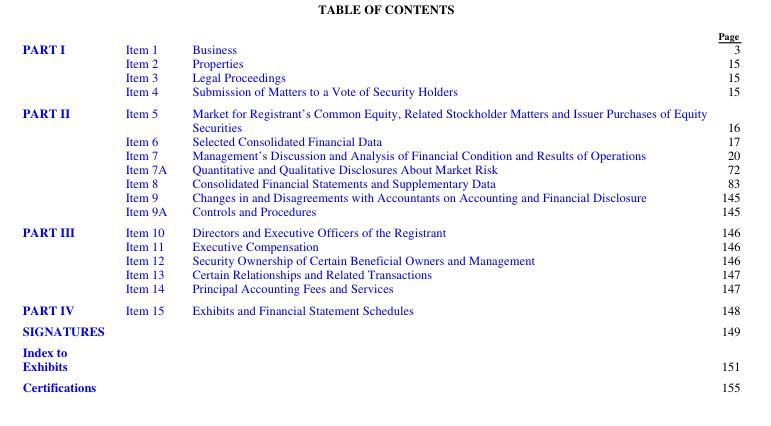table: (21, 28, 739, 394)
table column: (178, 28, 711, 394), (99, 28, 178, 394), (21, 28, 99, 394), (711, 28, 739, 394)
table column header: (21, 28, 739, 41)
table row: (21, 341, 739, 375), (21, 101, 739, 133), (21, 298, 739, 320), (21, 320, 739, 341), (21, 375, 739, 394), (21, 83, 739, 101), (21, 220, 739, 238), (21, 280, 739, 298), (21, 203, 739, 220), (21, 174, 739, 189), (21, 41, 739, 55), (21, 55, 739, 69), (21, 69, 739, 83), (21, 133, 739, 147), (21, 147, 739, 161), (21, 189, 739, 203), (21, 238, 739, 252), (21, 252, 739, 266), (21, 266, 739, 280), (21, 28, 739, 41), (21, 161, 739, 174)
table spanning cell: (21, 341, 711, 375), (21, 320, 711, 341), (21, 375, 711, 394), (21, 101, 99, 220), (21, 220, 99, 298), (21, 41, 99, 101)
